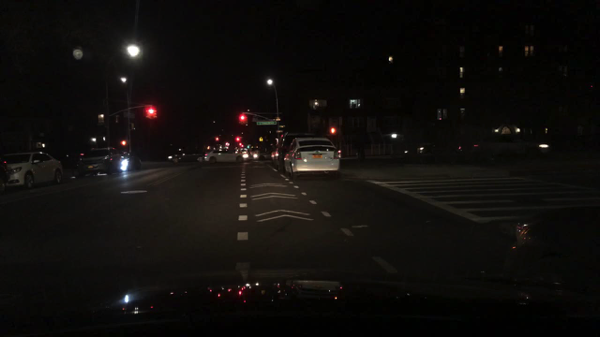car: (282, 138, 343, 184), (470, 136, 551, 166), (6, 152, 65, 191), (271, 131, 315, 173), (402, 142, 466, 164), (74, 147, 119, 178), (204, 146, 244, 165), (167, 150, 205, 162), (120, 152, 140, 172), (1, 155, 8, 195), (253, 151, 275, 162), (240, 148, 253, 162)
traffic light: (153, 109, 158, 119), (120, 140, 127, 146), (149, 108, 153, 118), (240, 115, 244, 124), (130, 123, 134, 132), (331, 128, 336, 134), (145, 109, 148, 118), (236, 137, 240, 143), (215, 137, 219, 142)
traffic sign: (123, 112, 135, 119), (257, 121, 277, 125), (259, 137, 263, 142)
